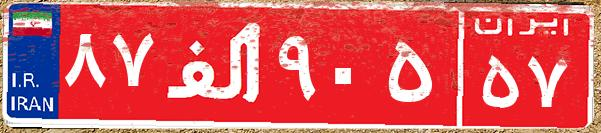0: (330, 28, 385, 110)
5: (385, 28, 445, 110), (475, 38, 525, 113)
7: (110, 28, 158, 105), (525, 38, 570, 115)
8: (57, 26, 110, 107)
9: (273, 28, 330, 110)
الف: (158, 15, 273, 115)
